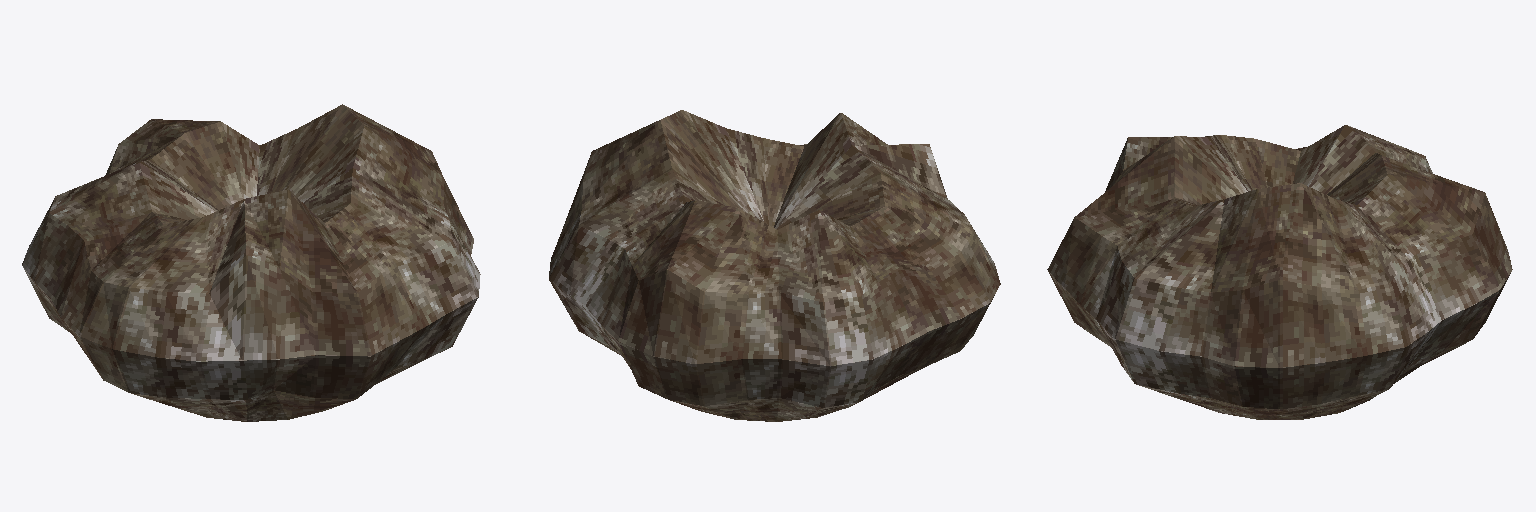
3 renders of one model, left to right at view 1: azimuth 30°, elevation 25°; view 2: azimuth 150°, elevation 25°; view 3: azimuth 270°, elevation 25°, orthographic.
Parts seen in each view (by area): view 1: polygon0; view 2: polygon0; view 3: polygon0.
Boxes of the visible parts, box(x1,y1,x2,y2) form: polygon0: box(22, 104, 480, 421); polygon0: box(549, 110, 1000, 421); polygon0: box(1047, 125, 1512, 419).
Bounding box in the file's own units: 7.92 × 4.56 × 8.
1 materials, 1 textured.